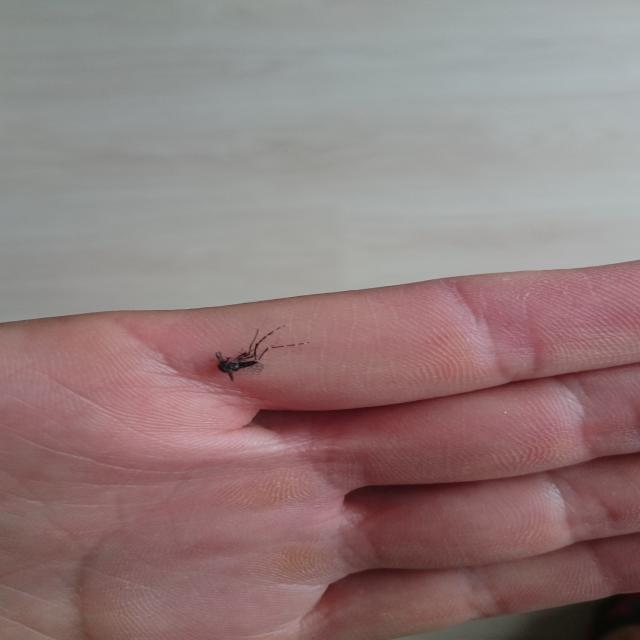albopictus: (197, 318, 311, 385)
